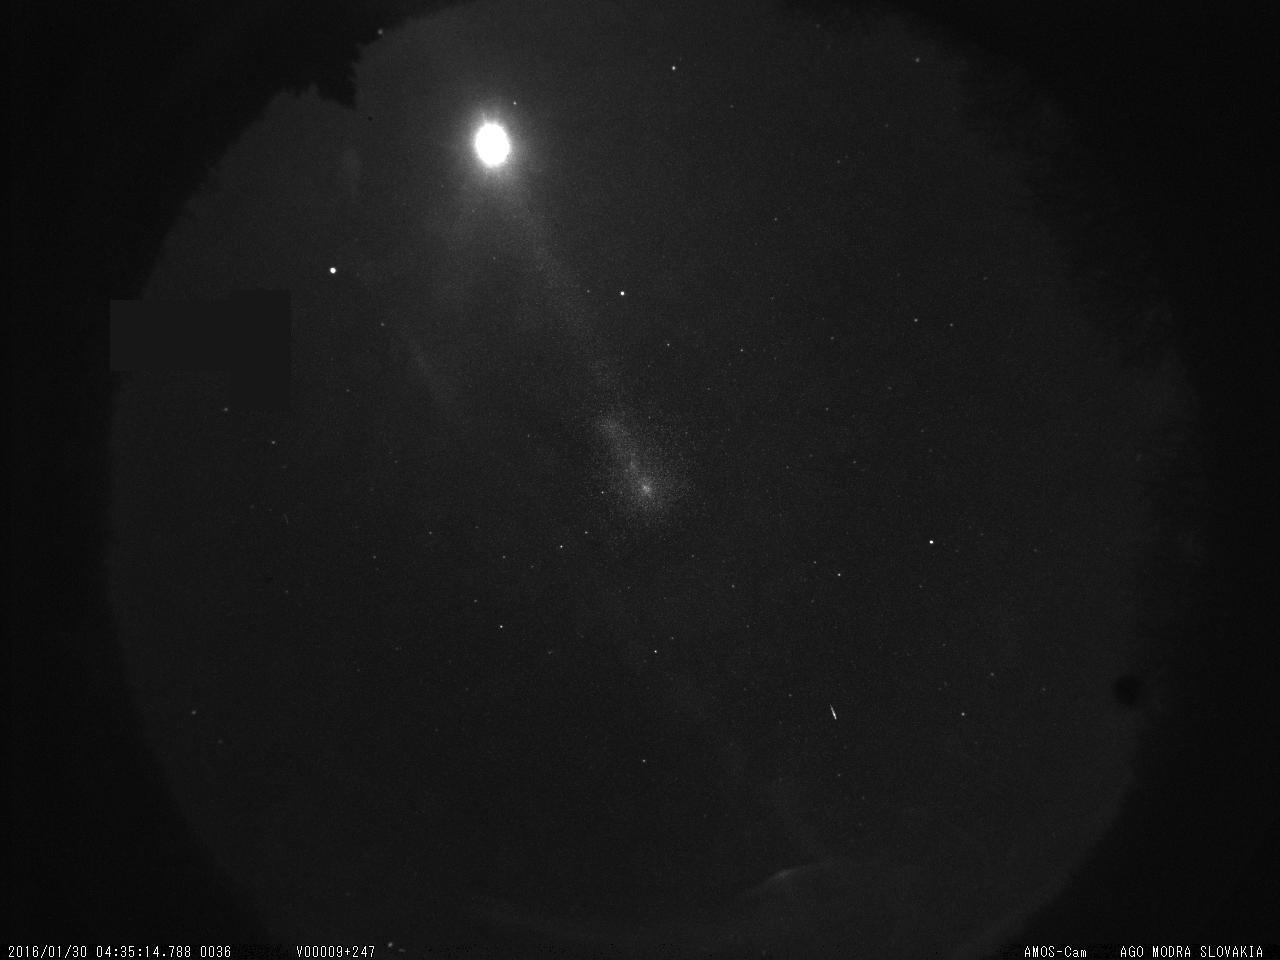meteor: (823, 700, 843, 724)
